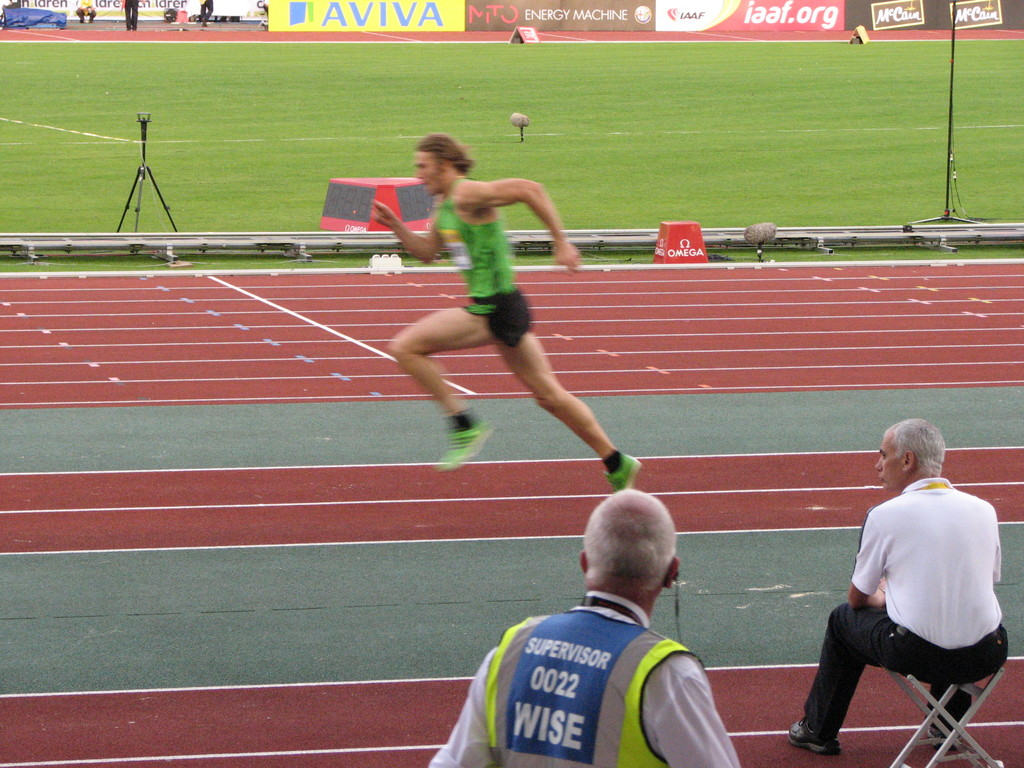Person: (119, 0, 146, 31), (74, 0, 96, 22), (198, 0, 212, 27)
